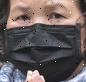with_mask: (1, 1, 86, 82)
